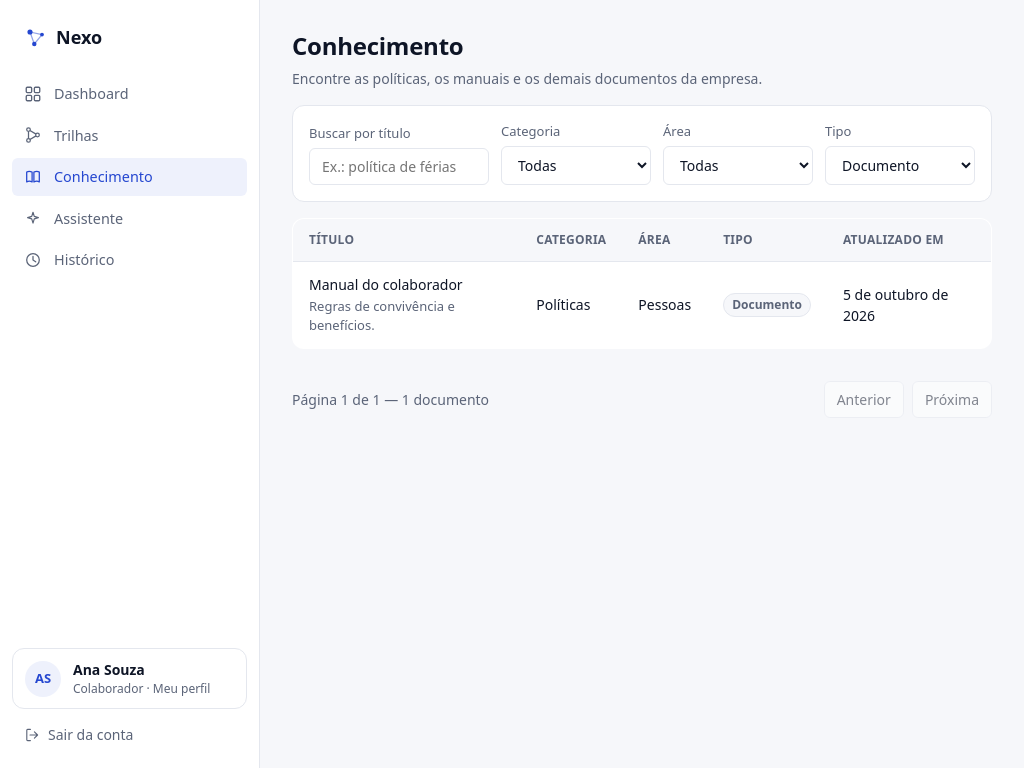
Test: ConhecimentoPage › sem resultado para os filtros, sugere limpar
This screenshot has width=1024, height=768.
Expected: the column heading "Manual do colaborador Regras de convivência e benefícios." is shown, [292, 262, 520, 348]
Select "Pessoas" in the dropdown labelled "Área" at (738, 165), box [663, 146, 813, 184]
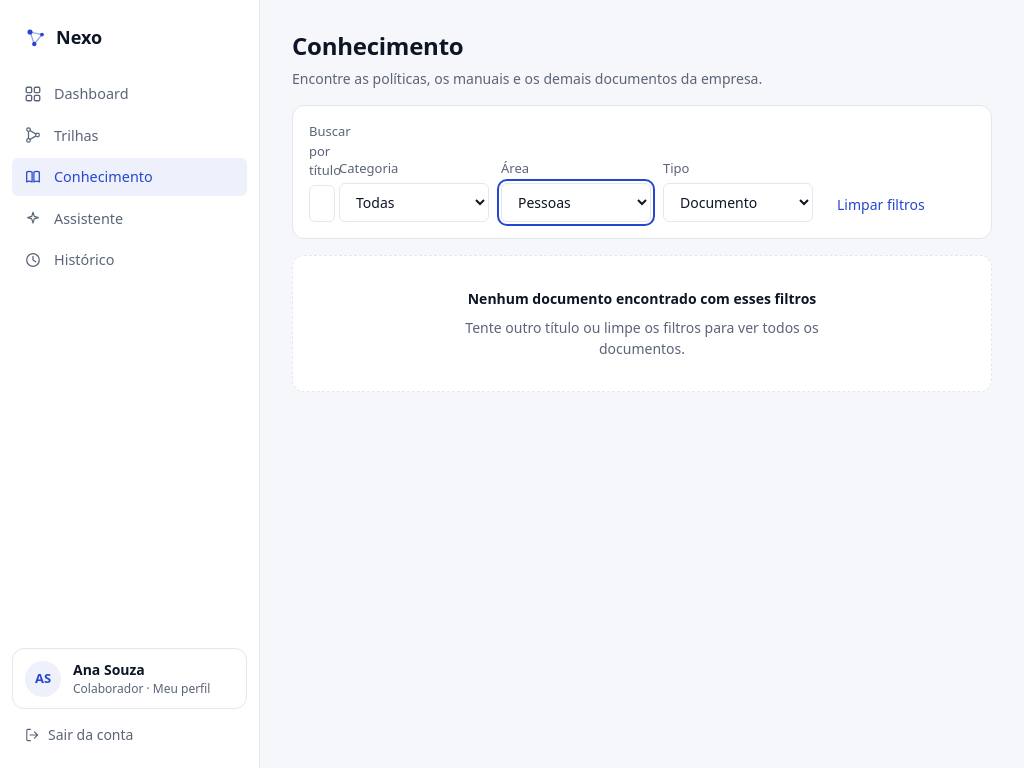
Expected: the text "Nenhum documento encontrado com esses filtros" is shown, [468, 288, 816, 308]
